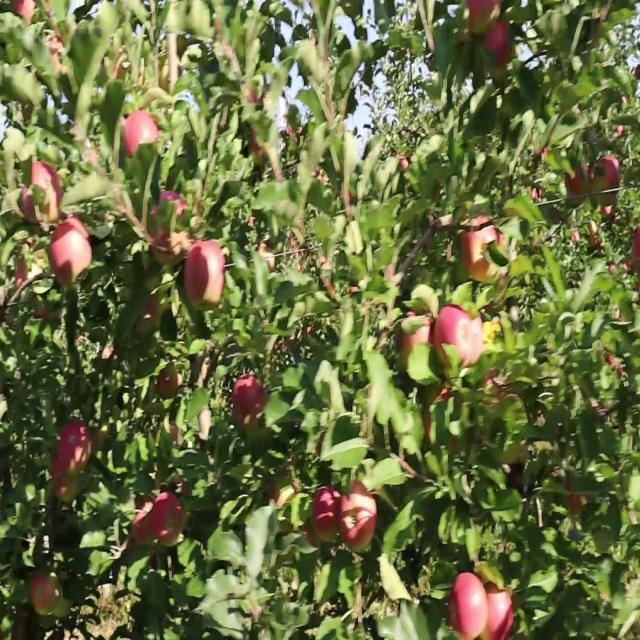apple: (48, 220, 93, 288), (184, 241, 227, 311), (148, 191, 188, 265), (340, 483, 379, 555), (436, 312, 484, 370), (460, 220, 501, 284), (24, 163, 64, 226), (448, 575, 487, 639), (436, 305, 471, 363), (232, 376, 267, 432), (60, 419, 93, 478), (152, 490, 185, 548), (424, 391, 452, 452), (124, 113, 160, 160), (456, 312, 485, 370), (52, 447, 81, 505), (396, 312, 428, 361), (484, 590, 515, 638), (313, 490, 341, 542), (32, 568, 60, 619), (232, 376, 267, 416), (484, 21, 513, 69), (12, 241, 37, 295), (132, 497, 157, 549), (268, 476, 299, 514), (468, 0, 500, 34), (44, 28, 67, 75), (12, 248, 32, 297), (564, 163, 591, 199), (156, 369, 183, 402), (160, 56, 183, 94), (104, 49, 127, 82), (564, 483, 586, 517), (148, 291, 170, 325), (340, 184, 358, 224), (600, 156, 621, 190), (12, 0, 38, 27), (32, 298, 53, 327), (252, 127, 267, 167), (260, 241, 277, 276), (244, 85, 266, 112), (172, 476, 190, 501), (100, 348, 119, 366), (632, 227, 640, 268), (168, 426, 181, 446), (600, 206, 615, 220)
